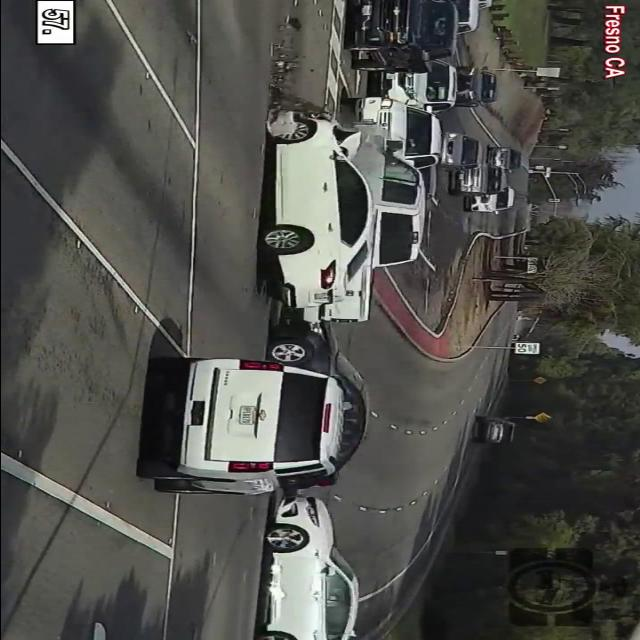accident: (243, 102, 441, 334)
non_accident: (362, 3, 498, 113), (443, 138, 545, 216)
